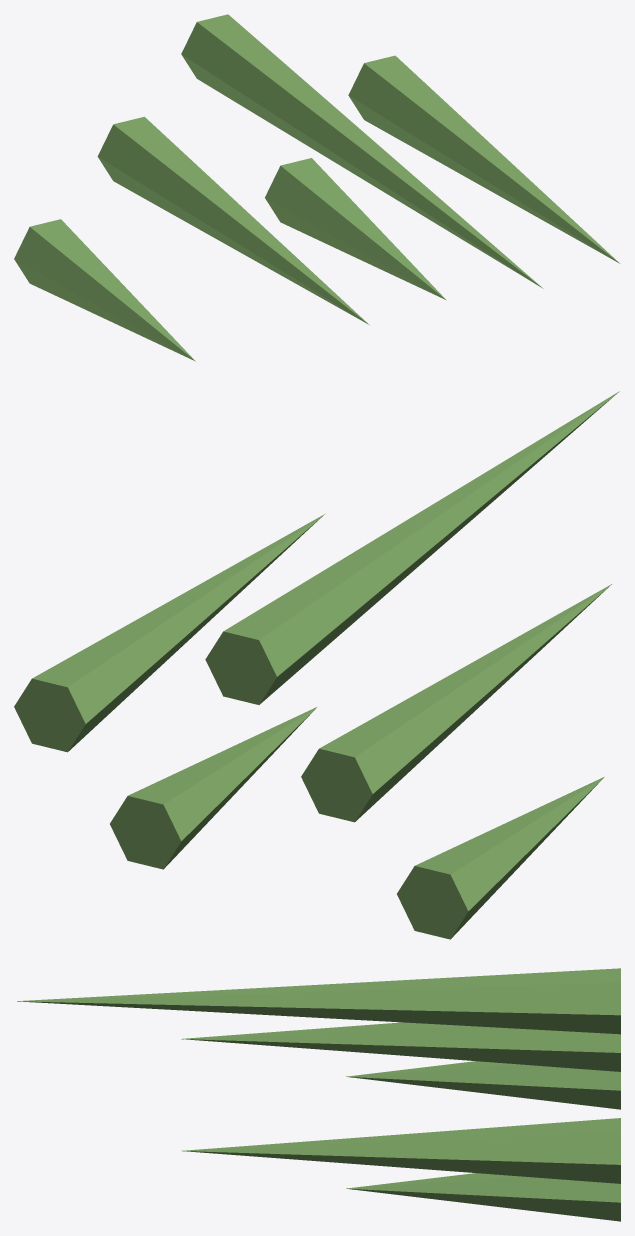
File: grass_var_2.glb
3 views of the same model, one above another, from view 1: azimuth 30°, elevation 25°; view 2: azimuth 150°, elevation 25°; view 3: azimuth 270°, elevation 25° (orthographic). The views are drawn at different scales.
Parts seen in each view (by area): view 1: world; view 2: world; view 3: world.
Boxes of the visible parts, x1,y1,x2,y2 form: world: (14,14,619,361); world: (14,391,619,939); world: (17,968,620,1221).
Size of the model in its own units: 0.38 by 0.202 by 0.55.
